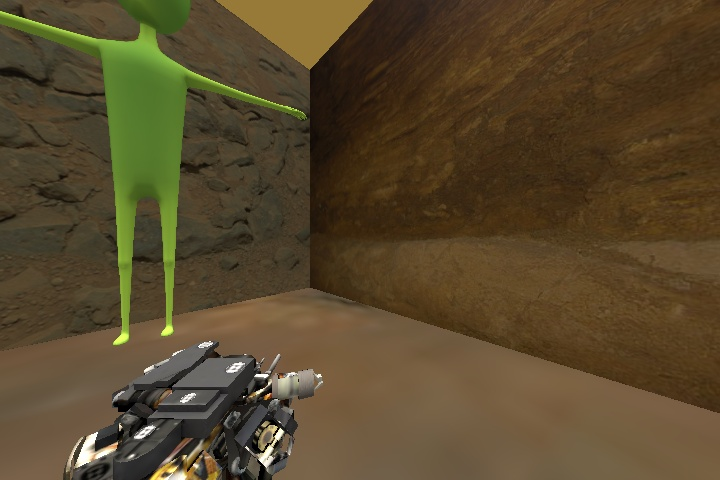alien: (2, 1, 309, 346)
